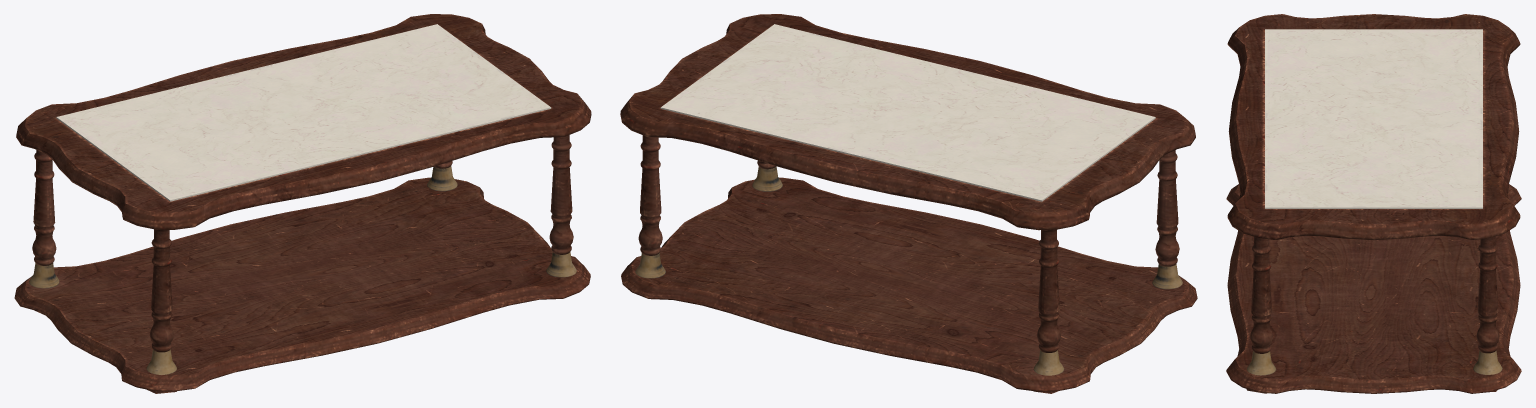
The model's file is center_table.glb.
3 views of the same model, side by side, from view 1: azimuth 30°, elevation 25°; view 2: azimuth 150°, elevation 25°; view 3: azimuth 270°, elevation 25° (orthographic). The views are drawn at different scales.
Parts seen in each view (by area): view 1: mesa; view 2: mesa; view 3: mesa.
Part boxes in pixels (x1,y1,x2,y2): mesa: (14, 14, 591, 393); mesa: (620, 14, 1197, 393); mesa: (1226, 14, 1521, 393).
Size of the model in its own units: 1.4 by 0.53 by 0.8061.
1 material, 1 textured.
